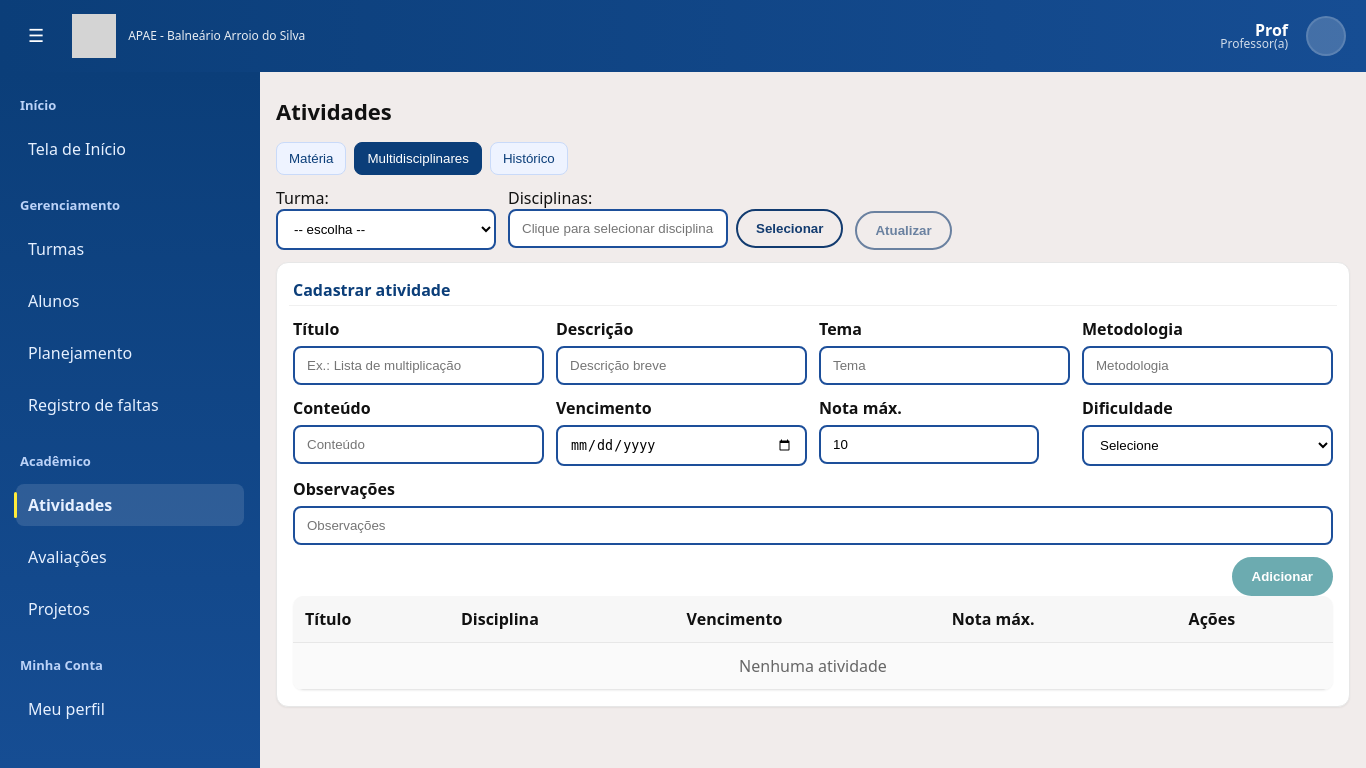
Atividades Multidisciplinares › lista e cria atividade
The image size is (1366, 768).
Select "Turma 1" in the dropdown below "Turma:" at (386, 230), box left=276, top=209, right=496, bottom=250
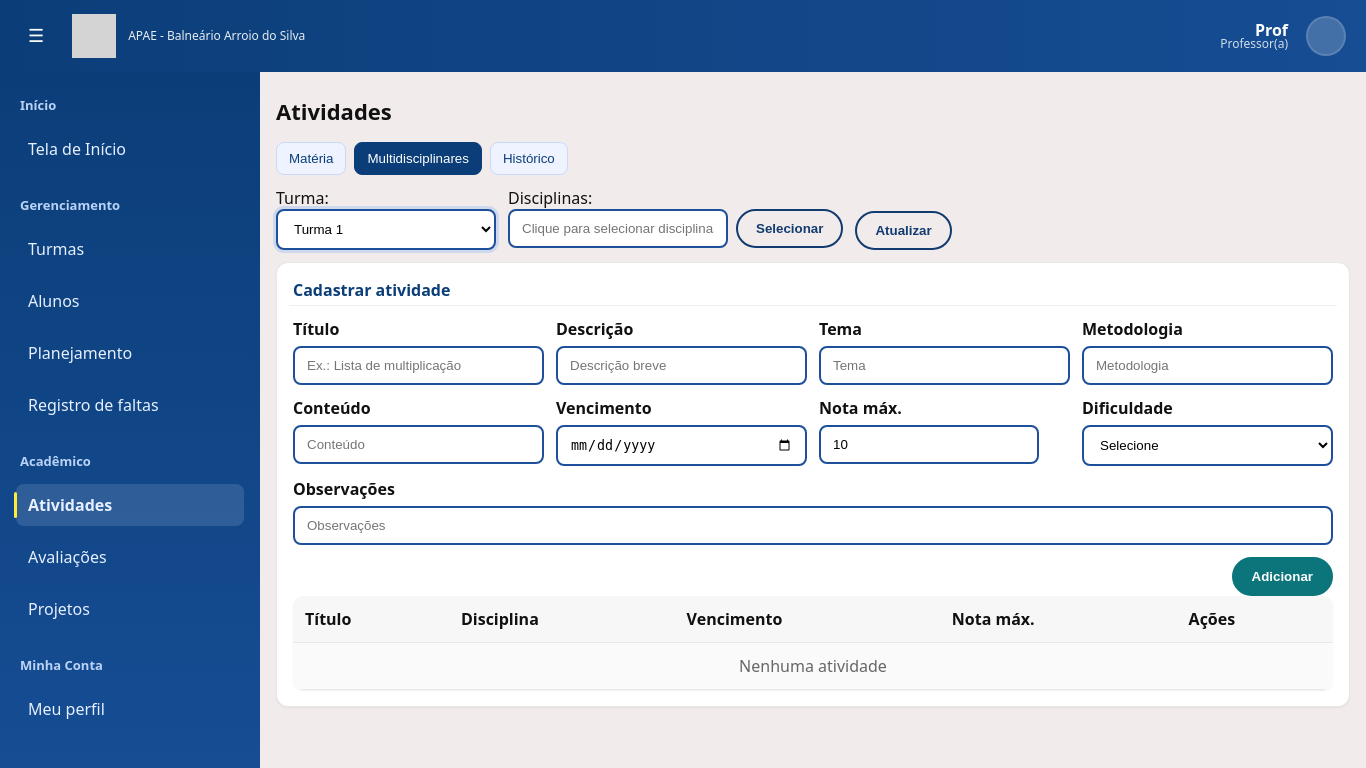
Type "Atv Multi" into the field with test id "activity-title" at (419, 366), box left=293, top=346, right=544, bottom=385
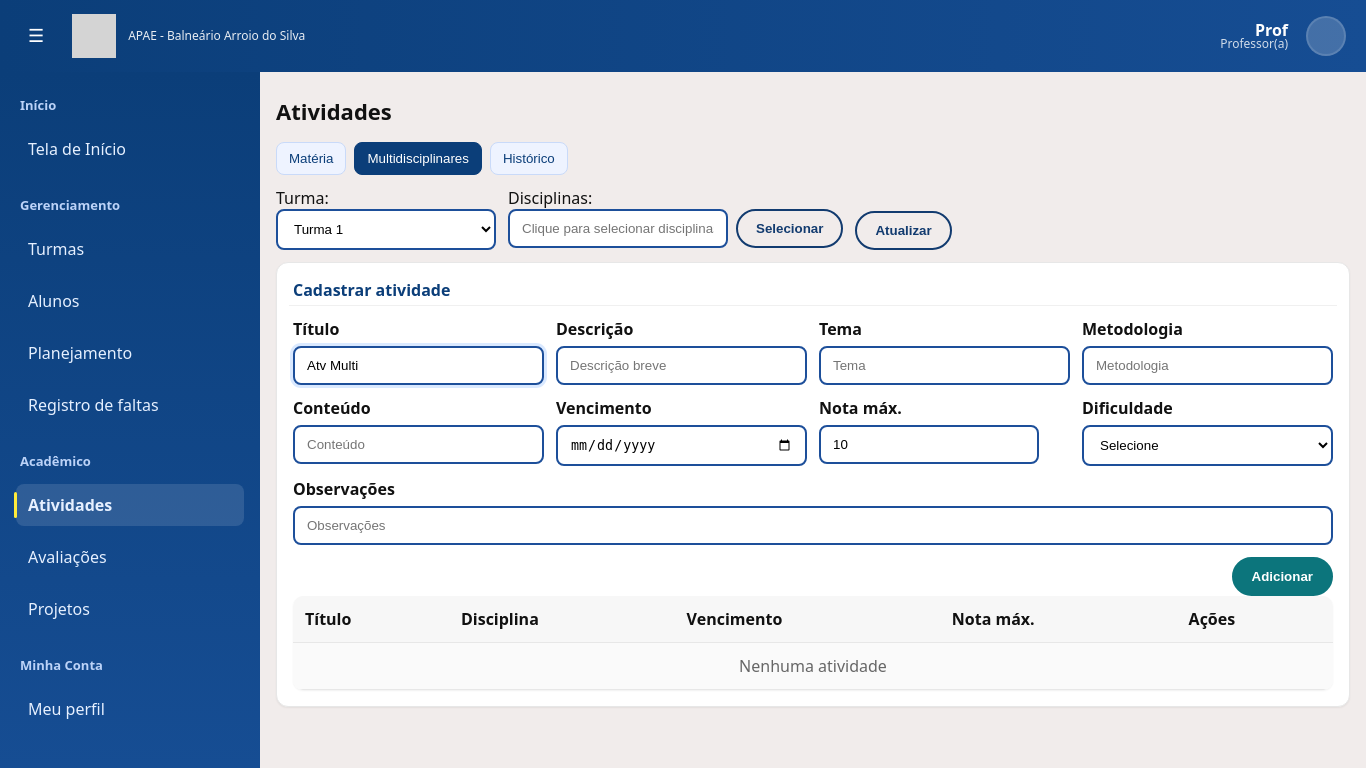
Click the button with test id "activity-add" at (1283, 577), box left=1232, top=557, right=1334, bottom=596
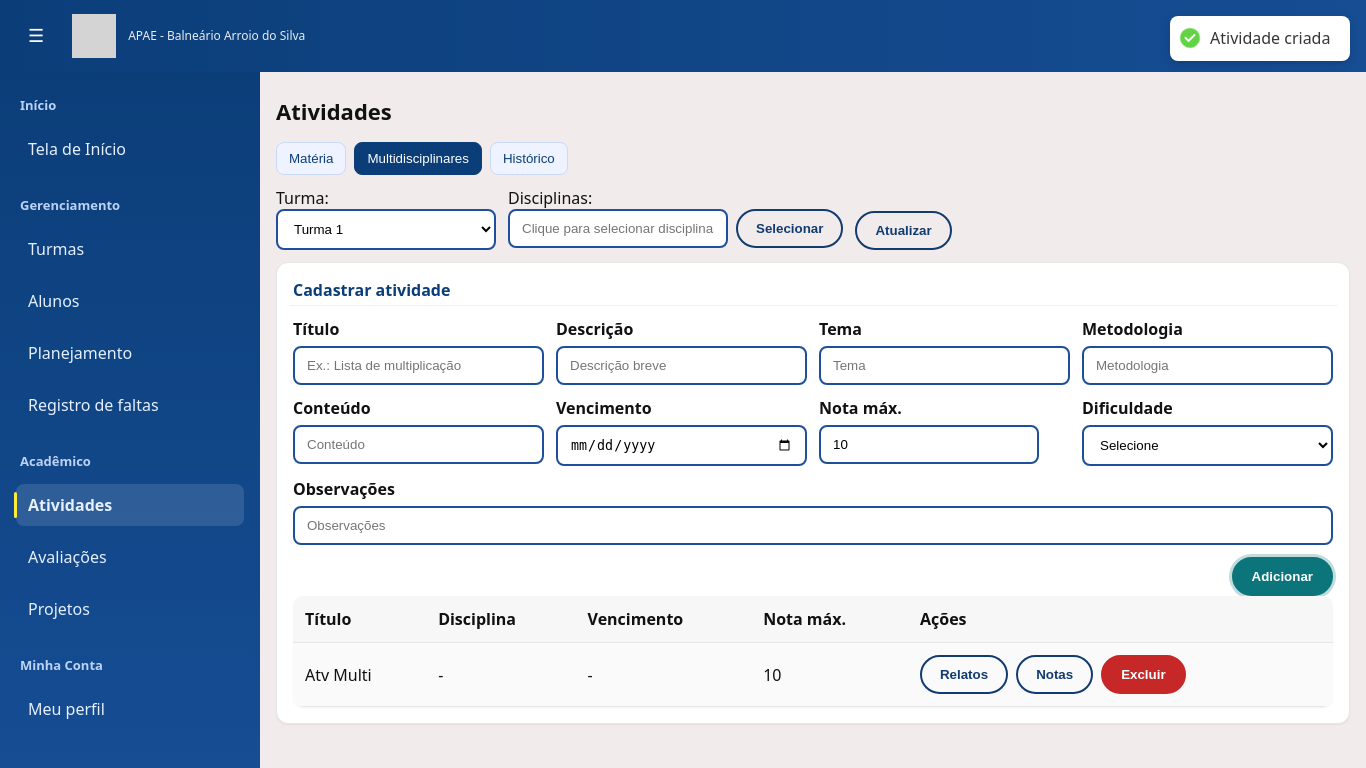
Now the text "Atv Multi" is shown, box left=293, top=643, right=426, bottom=707
